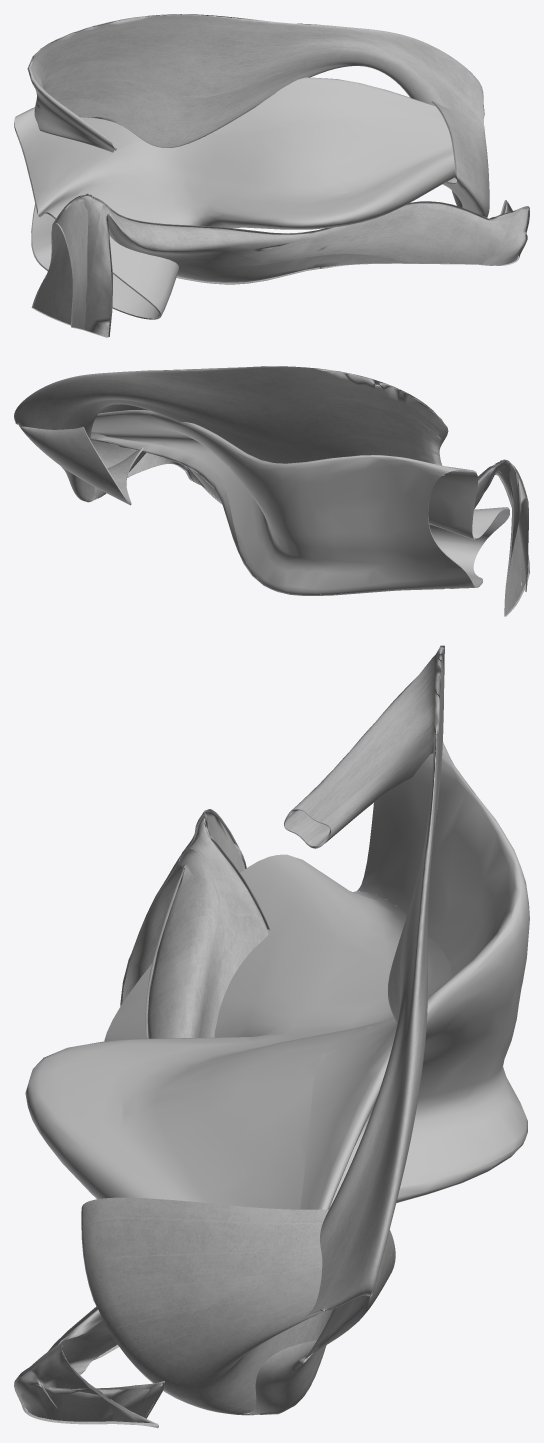
The model's file is -sofa-v64.glb.
3 renders of one model, top to bottom at view 1: azimuth 30°, elevation 25°; view 2: azimuth 150°, elevation 25°; view 3: azimuth 270°, elevation 25°, orthographic. The views are drawn at different scales.
Visible parts, largest first — view 1: Merged Objects, 冬; view 2: 冬, Merged Objects; view 3: 冬, Merged Objects.
Part boxes in pixels (x1,y1,x2,y2): Merged Objects: (27,14,529,337); 冬: (14,77,456,319); 冬: (90,410,509,595); Merged Objects: (14,366,529,616); 冬: (25,742,529,1209); Merged Objects: (14,645,444,1428).
Size of the model in its own units: 2.94 by 1.43 by 1.47.
2 materials, 1 textured.
